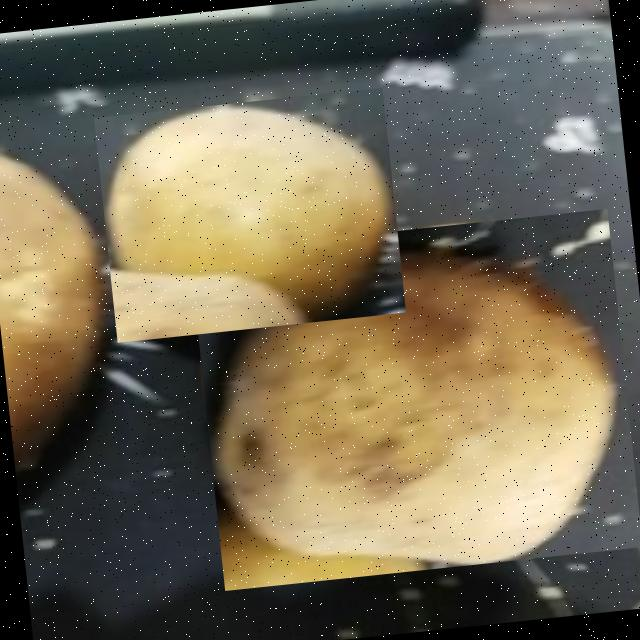Damaged potato: (188, 207, 640, 589), (0, 117, 117, 535)
Potato: (93, 86, 404, 342)
